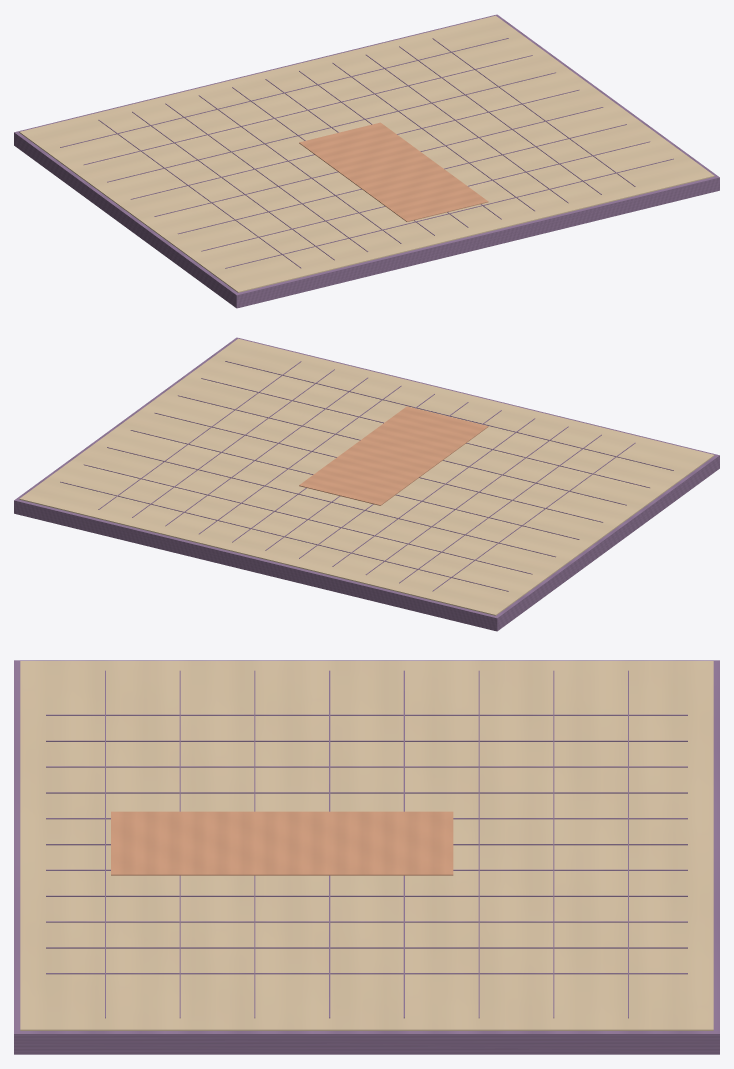
Rendered from atlas100-s086-a07.glb.
The picture shows the model from 3 angles, top to bottom: view 1: azimuth 30°, elevation 25°; view 2: azimuth 150°, elevation 25°; view 3: azimuth 270°, elevation 25°; orthographic projection. The views are drawn at different scales.
Visible parts, largest first — view 1: atlas100-s086-a07:part-001, atlas100-s086-a07:part-000, atlas100-s086-a07:part-021, atlas100-s086-a07:part-015, atlas100-s086-a07:part-014, atlas100-s086-a07:part-013, atlas100-s086-a07:part-020, atlas100-s086-a07:part-017, atlas100-s086-a07:part-019, atlas100-s086-a07:part-016, atlas100-s086-a07:part-018; view 2: atlas100-s086-a07:part-001, atlas100-s086-a07:part-000, atlas100-s086-a07:part-021, atlas100-s086-a07:part-014, atlas100-s086-a07:part-013, atlas100-s086-a07:part-020, atlas100-s086-a07:part-015, atlas100-s086-a07:part-016, atlas100-s086-a07:part-019, atlas100-s086-a07:part-018, atlas100-s086-a07:part-017; view 3: atlas100-s086-a07:part-001, atlas100-s086-a07:part-000, atlas100-s086-a07:part-021, atlas100-s086-a07:part-002, atlas100-s086-a07:part-003, atlas100-s086-a07:part-004, atlas100-s086-a07:part-005, atlas100-s086-a07:part-009, atlas100-s086-a07:part-010, atlas100-s086-a07:part-011, atlas100-s086-a07:part-012, atlas100-s086-a07:part-014 (+1 smaller).
Boxes of the visible parts, left/top/right/bottom form: atlas100-s086-a07:part-001: left=19, top=15, right=714, bottom=292; atlas100-s086-a07:part-000: left=14, top=14, right=719, bottom=308; atlas100-s086-a07:part-021: left=299, top=122, right=488, bottom=221; atlas100-s086-a07:part-015: left=107, top=72, right=555, bottom=182; atlas100-s086-a07:part-014: left=84, top=55, right=532, bottom=164; atlas100-s086-a07:part-013: left=60, top=38, right=508, bottom=147; atlas100-s086-a07:part-020: left=225, top=158, right=673, bottom=268; atlas100-s086-a07:part-017: left=154, top=107, right=603, bottom=216; atlas100-s086-a07:part-019: left=201, top=141, right=650, bottom=251; atlas100-s086-a07:part-016: left=130, top=89, right=579, bottom=199; atlas100-s086-a07:part-018: left=178, top=124, right=626, bottom=234; atlas100-s086-a07:part-001: left=19, top=338, right=714, bottom=615; atlas100-s086-a07:part-000: left=14, top=337, right=719, bottom=631; atlas100-s086-a07:part-021: left=299, top=406, right=488, bottom=505; atlas100-s086-a07:part-014: left=83, top=464, right=532, bottom=574; atlas100-s086-a07:part-013: left=60, top=481, right=508, bottom=591; atlas100-s086-a07:part-020: left=225, top=361, right=673, bottom=470; atlas100-s086-a07:part-015: left=107, top=447, right=555, bottom=557; atlas100-s086-a07:part-016: left=130, top=430, right=579, bottom=539; atlas100-s086-a07:part-019: left=201, top=378, right=649, bottom=487; atlas100-s086-a07:part-018: left=178, top=395, right=626, bottom=505; atlas100-s086-a07:part-017: left=154, top=412, right=603, bottom=522; atlas100-s086-a07:part-001: left=20, top=661, right=713, bottom=1030; atlas100-s086-a07:part-000: left=14, top=660, right=719, bottom=1054; atlas100-s086-a07:part-021: left=111, top=811, right=453, bottom=875; atlas100-s086-a07:part-002: left=46, top=714, right=687, bottom=715; atlas100-s086-a07:part-003: left=46, top=740, right=687, bottom=741; atlas100-s086-a07:part-004: left=46, top=766, right=687, bottom=767; atlas100-s086-a07:part-005: left=46, top=792, right=687, bottom=793; atlas100-s086-a07:part-009: left=46, top=895, right=687, bottom=896; atlas100-s086-a07:part-010: left=46, top=921, right=687, bottom=922; atlas100-s086-a07:part-011: left=46, top=947, right=687, bottom=948; atlas100-s086-a07:part-012: left=46, top=973, right=687, bottom=974; atlas100-s086-a07:part-014: left=553, top=670, right=554, bottom=1018.
Bounding box in the file's own units: 13.02 × 0.404 × 10.4.
Materials: 3 (3 with a texture image).
